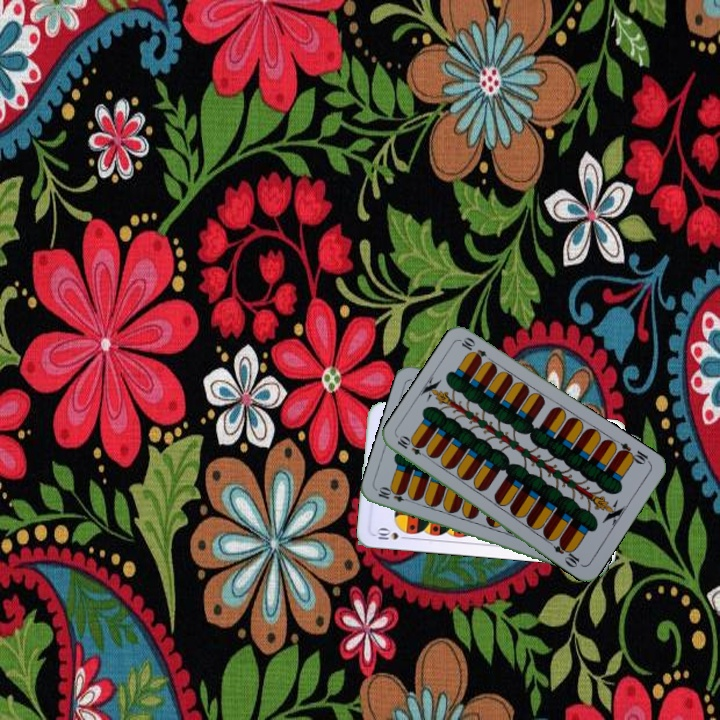E10: (614, 439, 653, 468), (393, 433, 431, 461), (374, 485, 414, 505)
S10: (371, 525, 412, 542)
